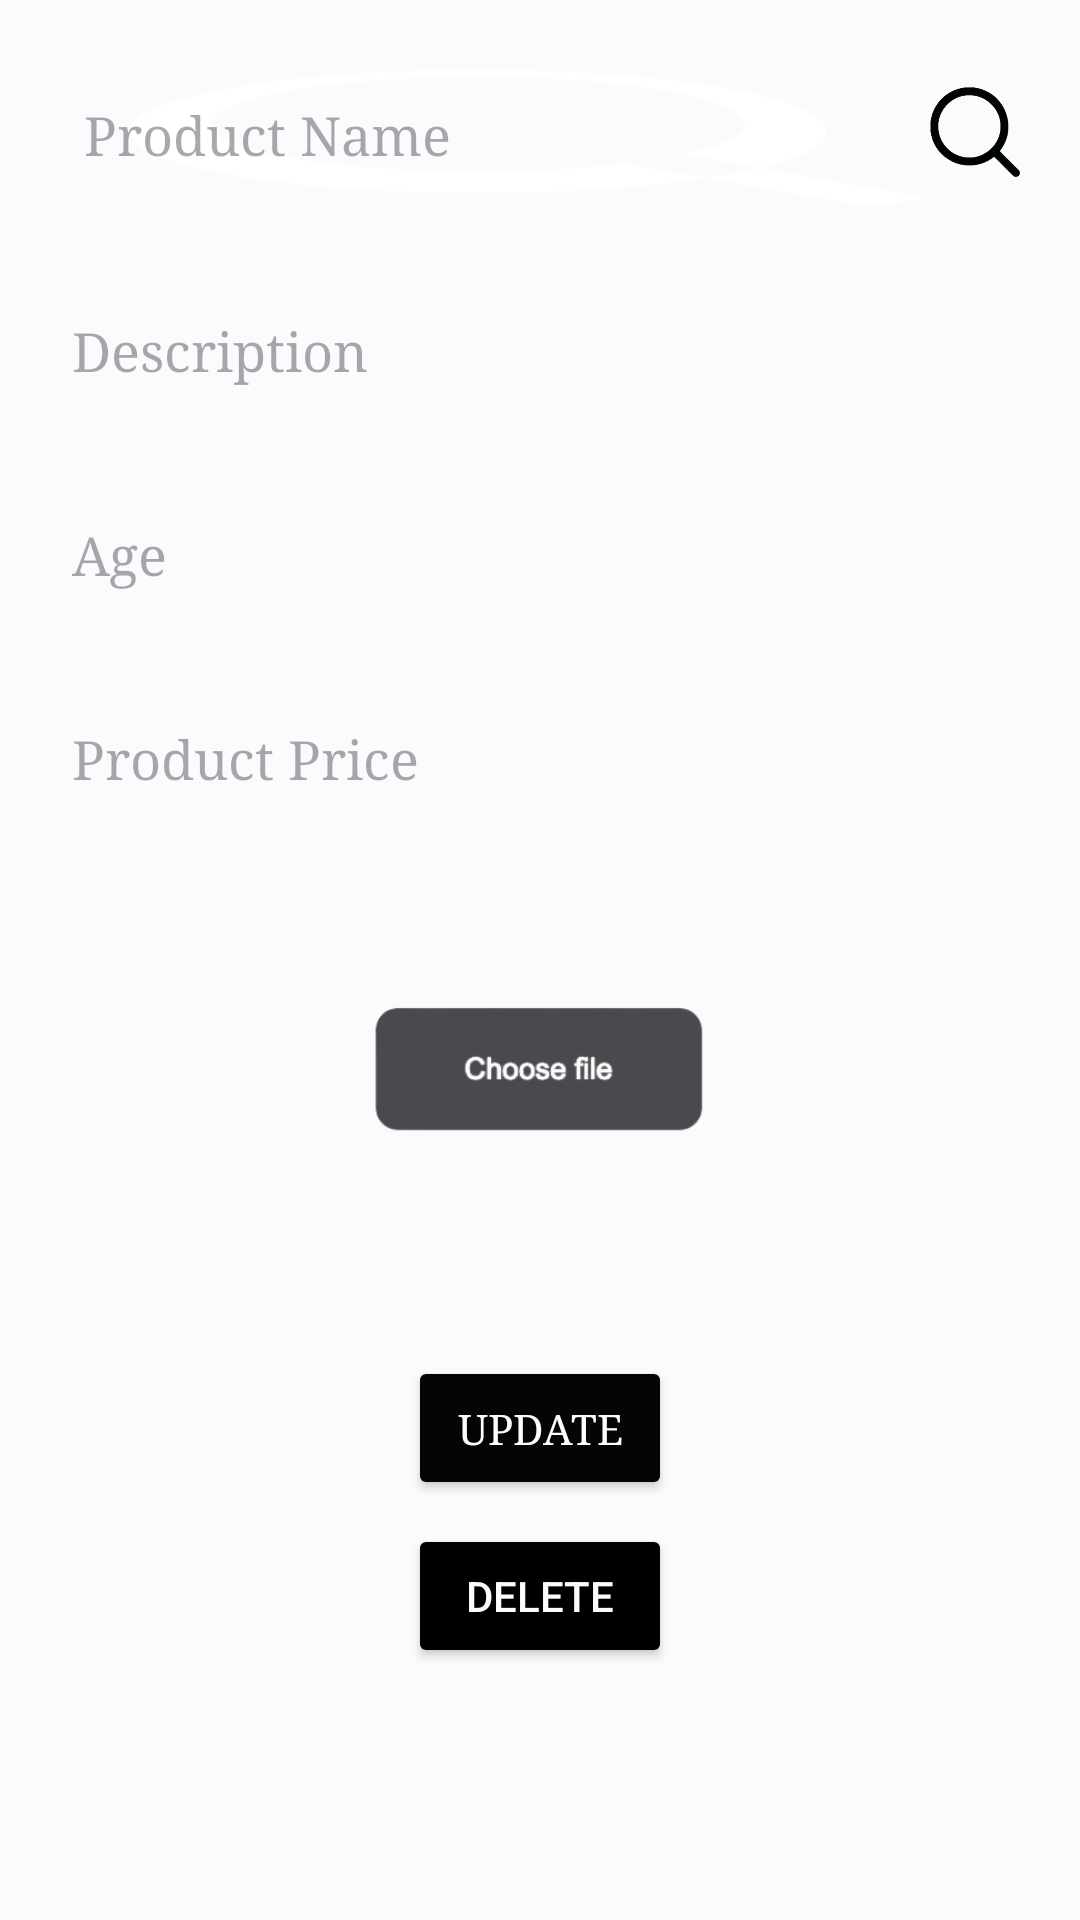

Where to tap for icons on this 1080*1920 app screen, as point (x, y):
searchic: point (975, 132)
